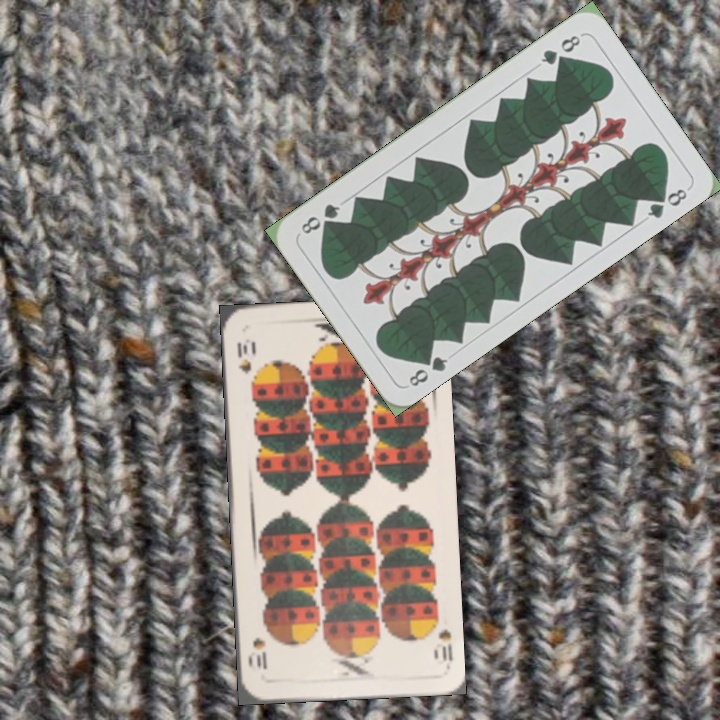G8: (404, 348, 450, 390), (536, 30, 585, 68)
S10: (434, 625, 455, 664), (233, 338, 254, 376)
